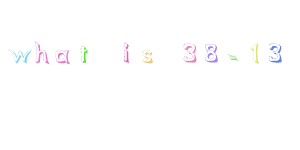-: (225, 50, 241, 66)
1: (248, 42, 264, 66)
3: (176, 31, 199, 69), (267, 40, 286, 67)
8: (203, 41, 222, 69)
a: (54, 47, 71, 68)
h: (34, 38, 50, 70)
i: (118, 37, 136, 67)
s: (140, 48, 162, 73)
t: (76, 44, 97, 70)
w: (5, 44, 32, 68)
